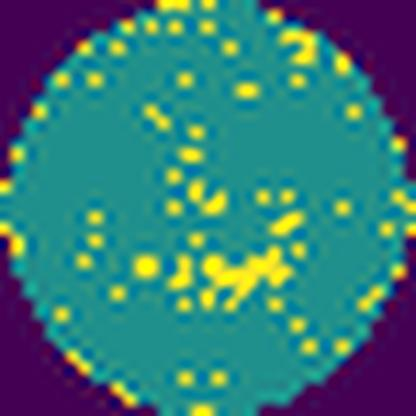Loc: (200, 243, 292, 312)
